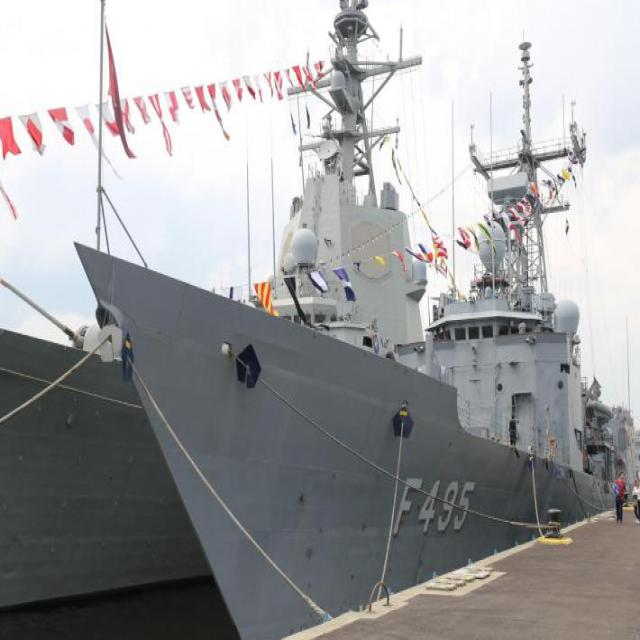Fragata: (69, 1, 630, 623)
